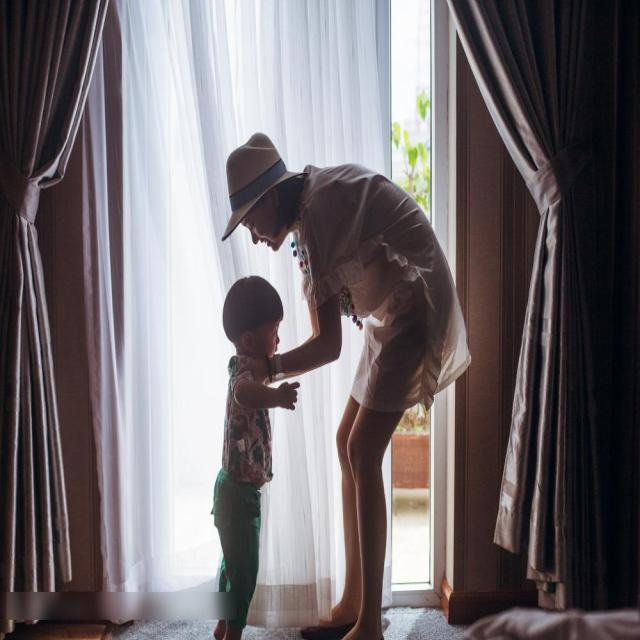Manusia: (204, 114, 494, 640)
